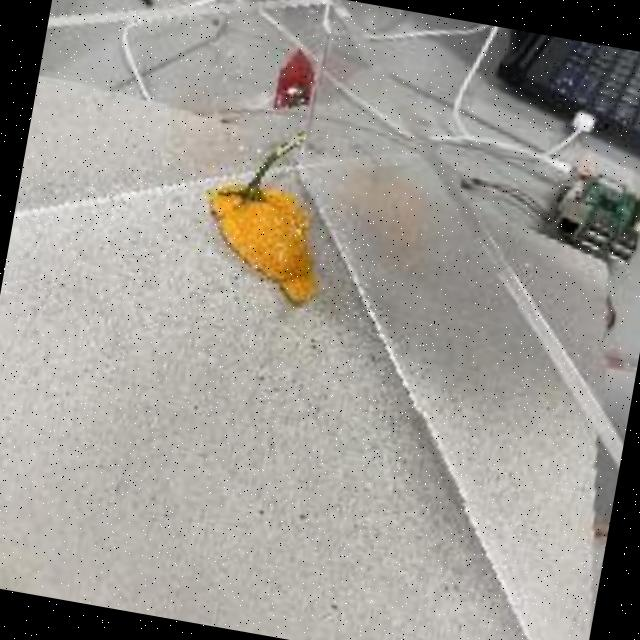orange-peel: (188, 171, 337, 310)
